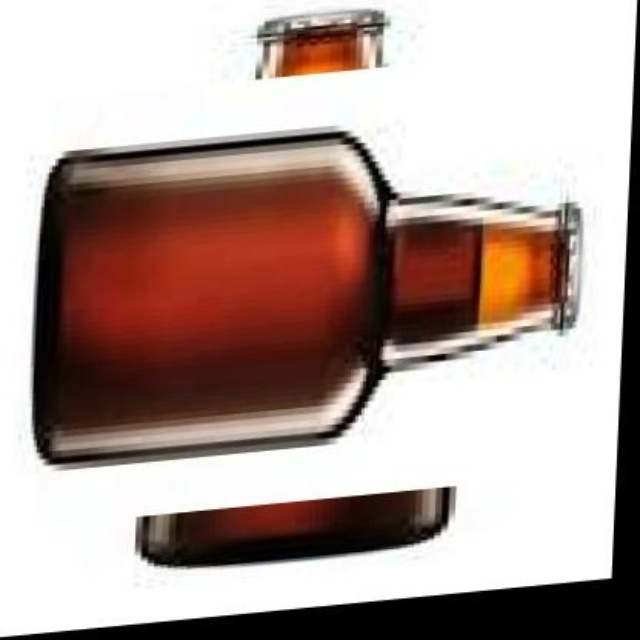trash: (34, 129, 578, 462)
